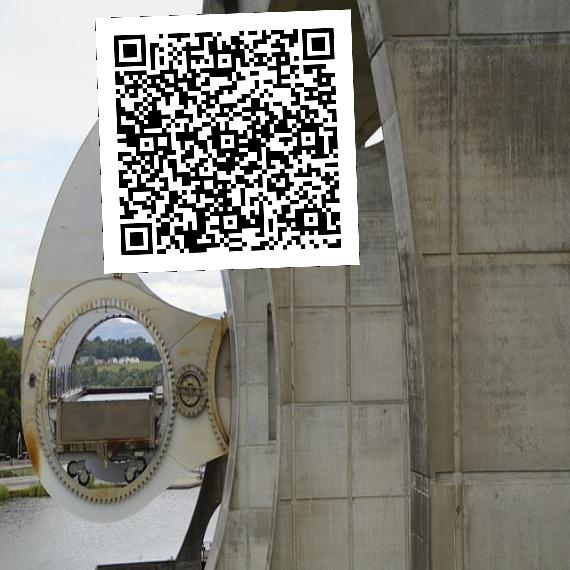qr_code: (95, 9, 359, 273)
